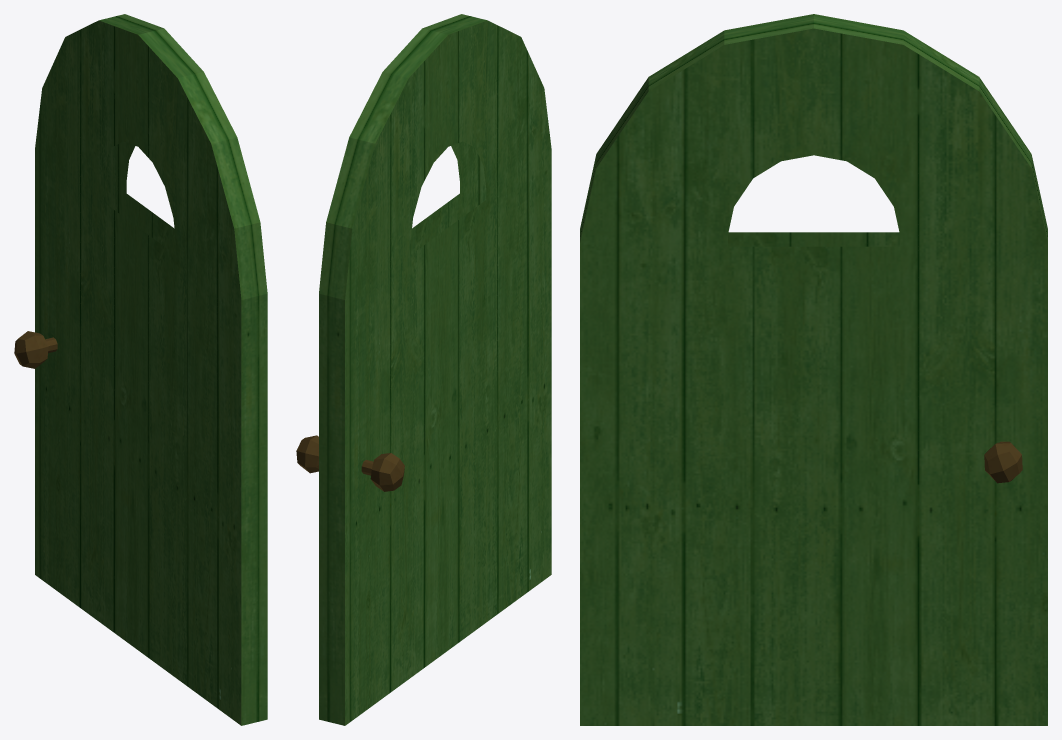
File: PuertaFachada.obj
3 views of the same model, side by side, from view 1: azimuth 30°, elevation 25°; view 2: azimuth 150°, elevation 25°; view 3: azimuth 270°, elevation 25° (orthographic). The views are drawn at different scales.
Parts seen in each view (by area): view 1: PuertaFachada:PUERTA_FACHADA_Plano_021; view 2: PuertaFachada:PUERTA_FACHADA_Plano_021; view 3: PuertaFachada:PUERTA_FACHADA_Plano_021.
Boxes of the visible parts, left/top/right/bottom form: PuertaFachada:PUERTA_FACHADA_Plano_021: left=14, top=14, right=267, bottom=725; PuertaFachada:PUERTA_FACHADA_Plano_021: left=296, top=14, right=551, bottom=725; PuertaFachada:PUERTA_FACHADA_Plano_021: left=580, top=14, right=1047, bottom=725.
Size of the model in its own units: 1.8 by 10.1 by 6.14.
1 material, 1 textured.
